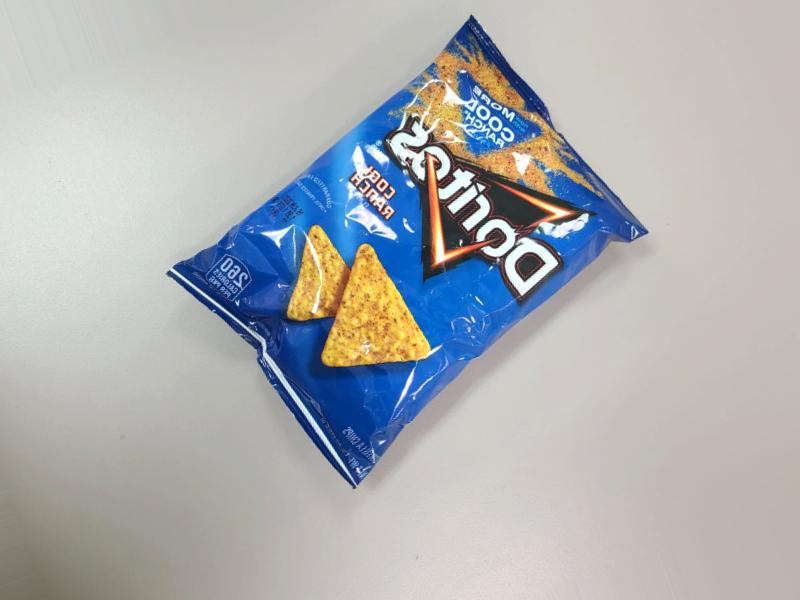doritos: (137, 119, 656, 545)
